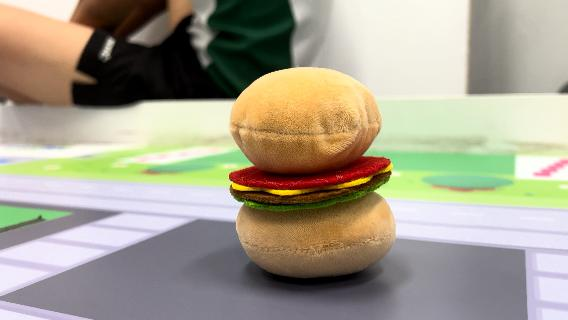burger: (222, 62, 402, 280)
